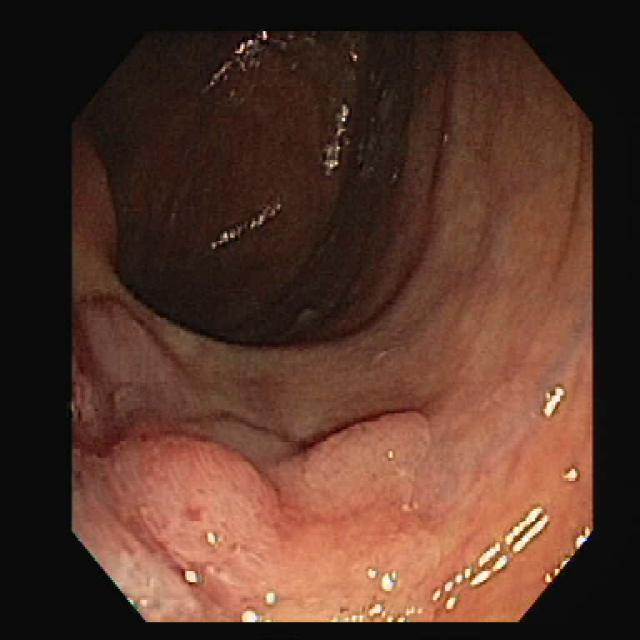tumor: (73, 293, 438, 618)
